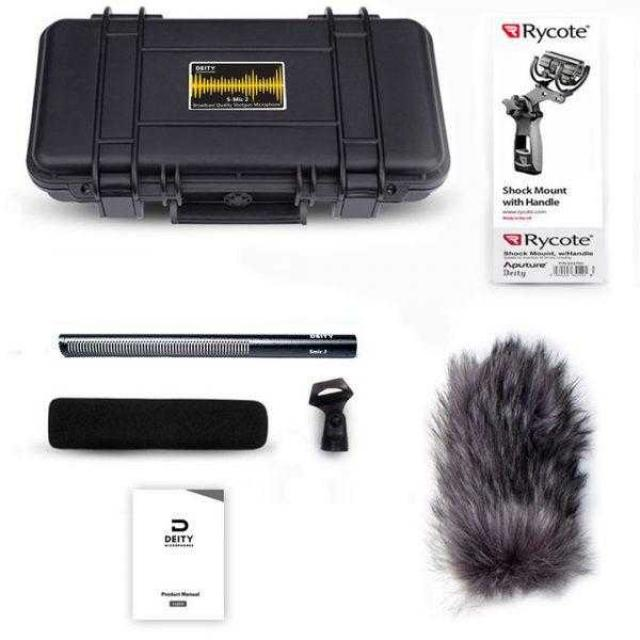microphone: (57, 333, 356, 357)
